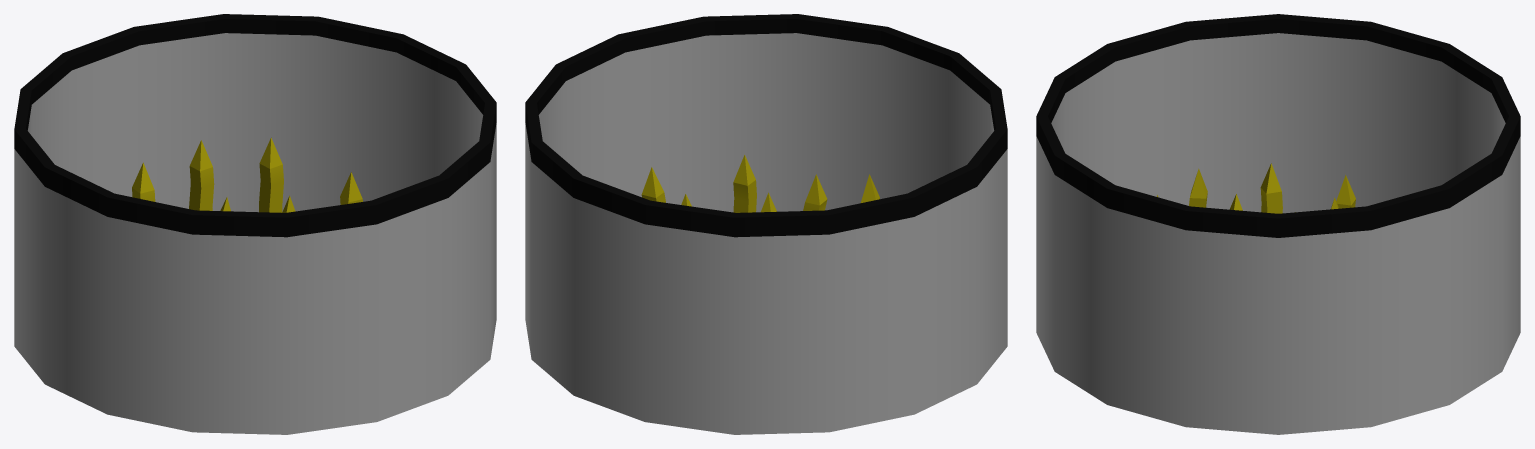
The model's file is Spiked_Pit.fbx.
The picture shows the model from 3 angles, left to right: view 1: azimuth 30°, elevation 25°; view 2: azimuth 150°, elevation 25°; view 3: azimuth 270°, elevation 25°; orthographic projection.
Visible parts, largest first — view 1: Spiked_Pit; view 2: Spiked_Pit; view 3: Spiked_Pit.
Part boxes in pixels (x1=…): Spiked_Pit: x1=14, y1=14, x2=496, y2=434; Spiked_Pit: x1=525, y1=14, x2=1007, y2=434; Spiked_Pit: x1=1036, y1=14, x2=1520, y2=434.
Size of the model in its own units: 660 by 350 by 660.
